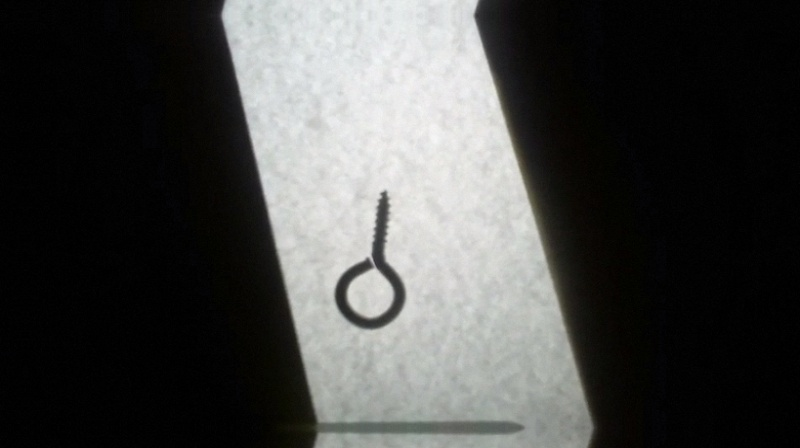O001: (331, 187, 409, 332)
